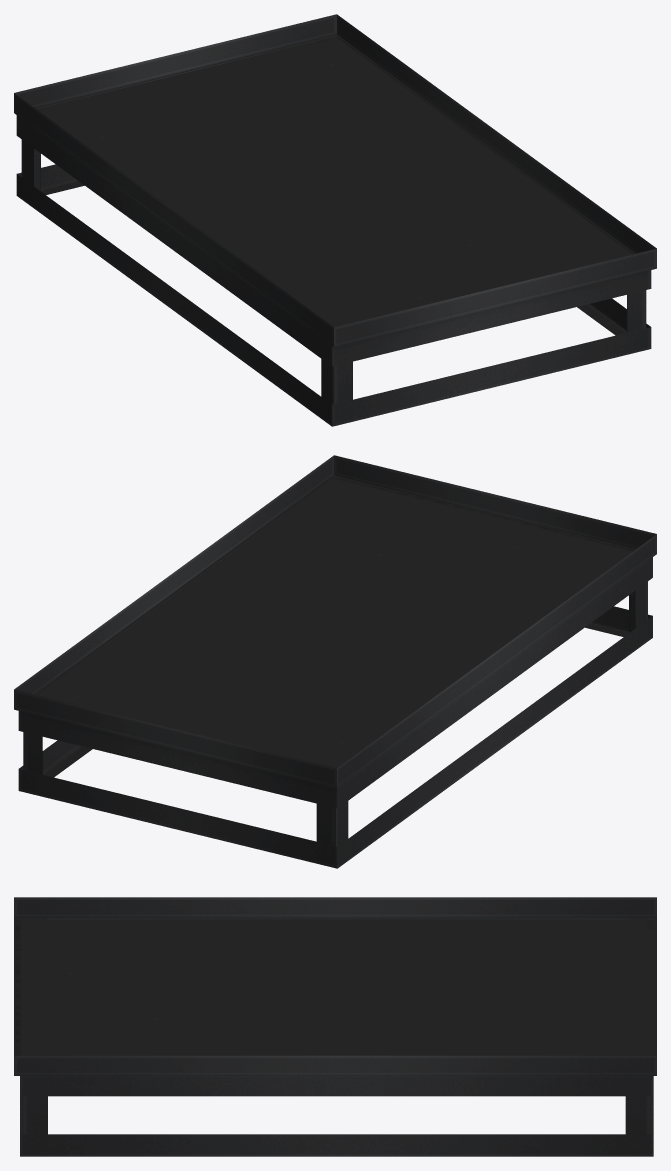
File: cabinetrack_bot.obj
The picture shows the model from 3 angles, top to bottom: view 1: azimuth 30°, elevation 25°; view 2: azimuth 150°, elevation 25°; view 3: azimuth 270°, elevation 25°; orthographic projection.
Parts seen in each view (by area): view 1: default; view 2: default; view 3: default.
Part boxes in pixels (x1,y1,x2,y2): default: (14,14,656,426); default: (14,455,656,868); default: (14,897,656,1156).
Size of the model in its own units: 55.9 by 16.86 by 96.
